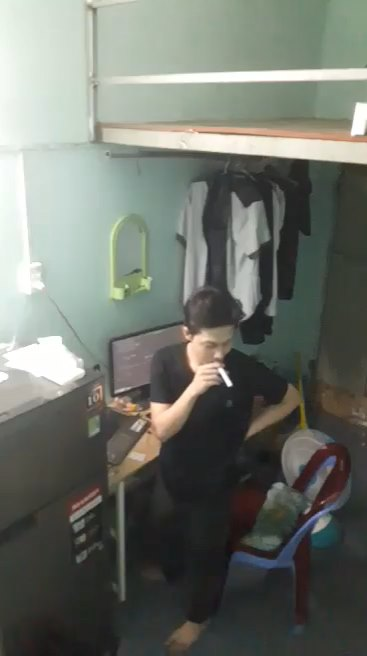cigarette: (216, 361, 235, 393)
person: (148, 280, 303, 656)
